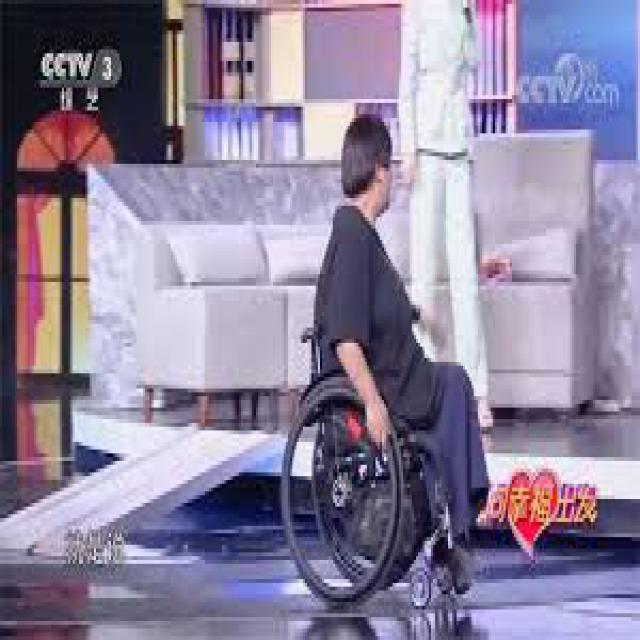wheelchairs: (284, 312, 482, 606)
